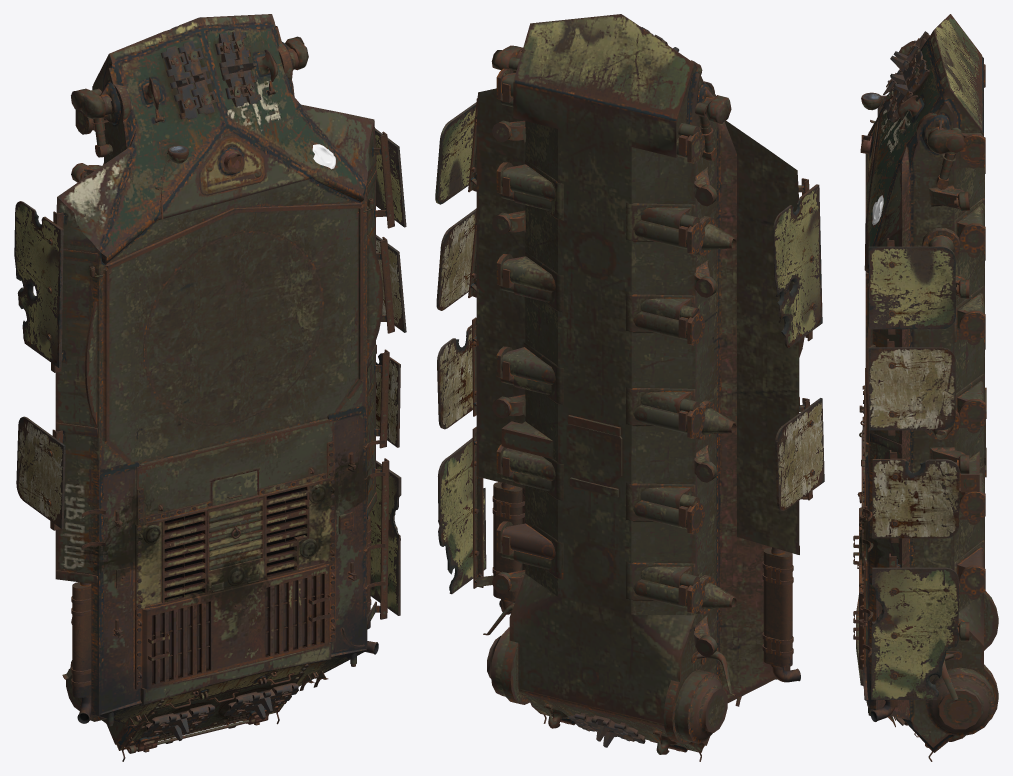
File: Hull_02.glb
3 views of the same model, side by side, from view 1: azimuth 30°, elevation 25°; view 2: azimuth 150°, elevation 25°; view 3: azimuth 270°, elevation 25° (orthographic). The views are drawn at different scales.
Visible parts, largest first — view 1: set_0_group_0, set_0_group_1; view 2: set_0_group_0, set_0_group_1; view 3: set_0_group_0, set_0_group_1.
Part boxes in pixels (<box>): set_0_group_0: <box>47,14,394,761</box>; set_0_group_1: <box>14,128,406,615</box>; set_0_group_0: <box>468,14,815,761</box>; set_0_group_1: <box>435,102,824,594</box>; set_0_group_0: <box>853,14,998,761</box>; set_0_group_1: <box>868,95,959,699</box>.
Bounding box in the file's own units: 3.48 × 6.96 × 1.32.
Materials: 3 (2 with a texture image).
